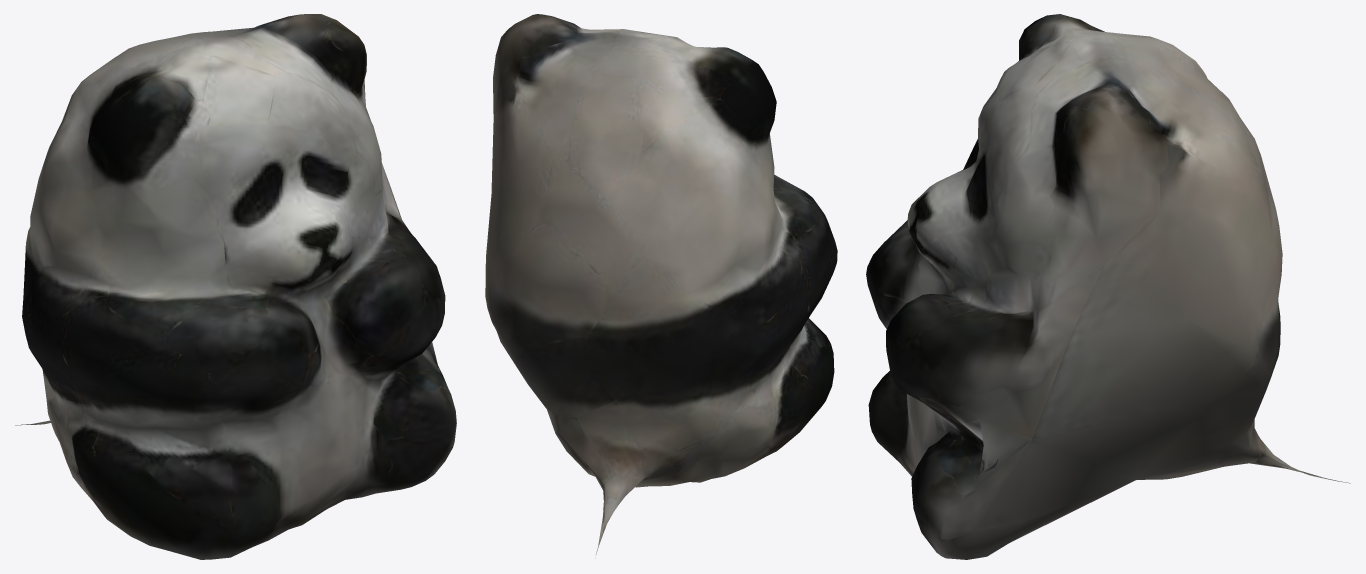
File: hall.glb
3 views of the same model, side by side, from view 1: azimuth 30°, elevation 25°; view 2: azimuth 150°, elevation 25°; view 3: azimuth 270°, elevation 25° (orthographic). The views are drawn at different scales.
Size of the model in its own units: 0.2985 by 0.38 by 0.3511.
Materials: 1 (1 with a texture image).
